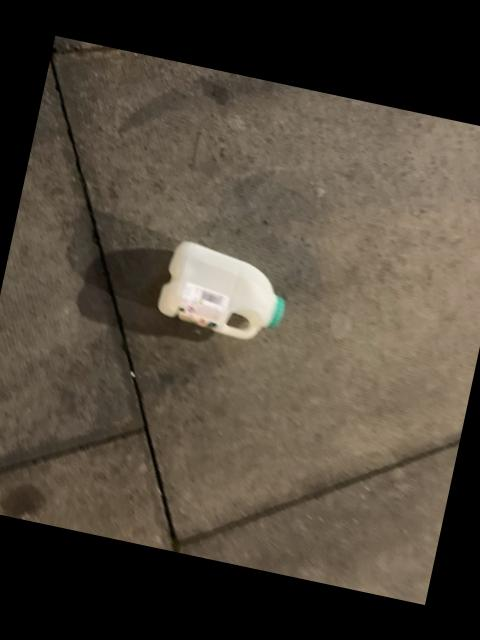plastic: (158, 243, 285, 340)
